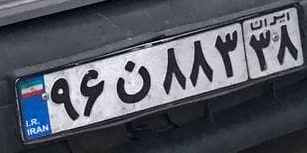character: (109, 59, 153, 108), (45, 75, 81, 125), (211, 25, 240, 82), (185, 39, 215, 90), (77, 68, 105, 121), (156, 47, 187, 94), (248, 26, 274, 72), (275, 20, 301, 66)
